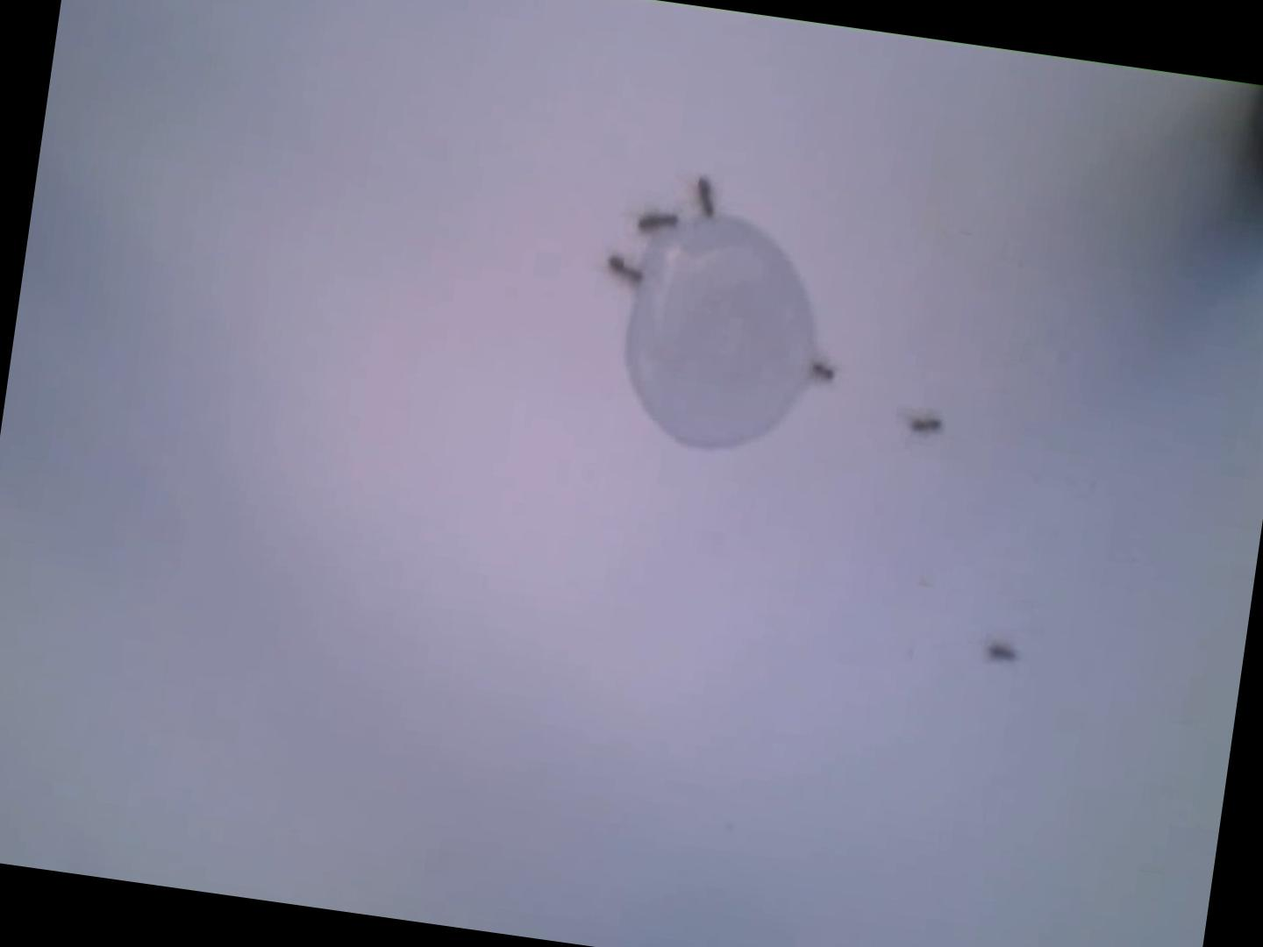Ant: (631, 207, 675, 237), (603, 254, 645, 285), (690, 177, 716, 218), (983, 642, 1016, 665), (906, 413, 940, 435), (806, 360, 835, 382)
